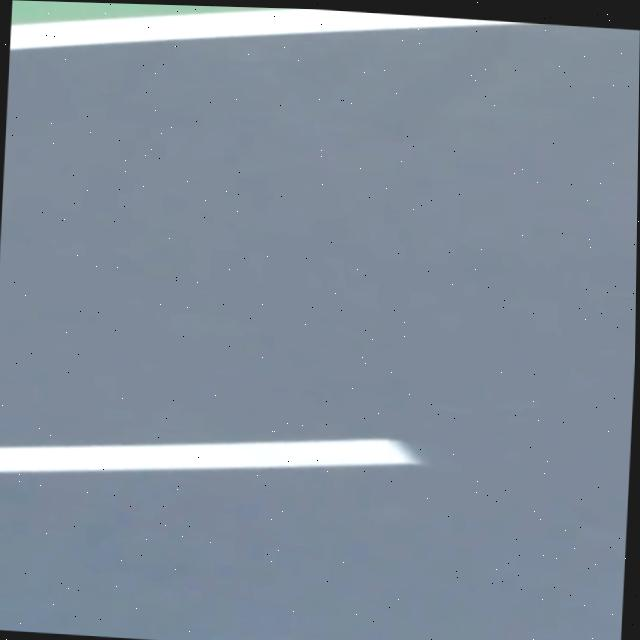center: (0, 439, 419, 473)
right: (9, 9, 537, 49)
